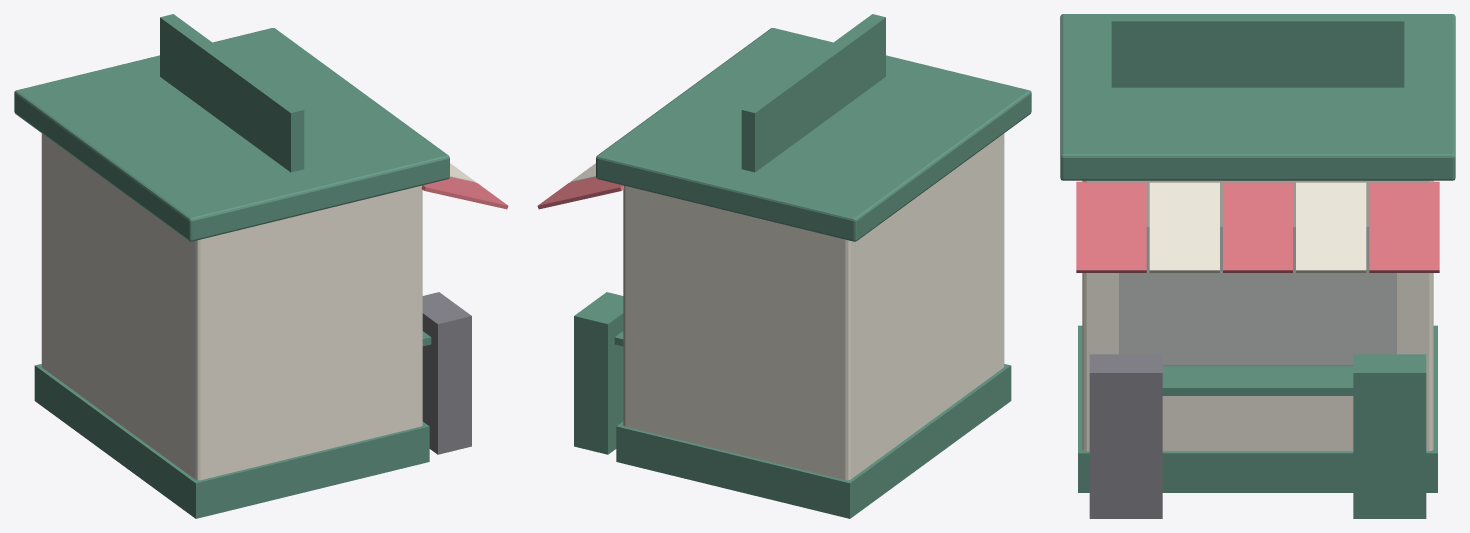
File: kiosk.glb
The picture shows the model from 3 angles, left to right: view 1: azimuth 30°, elevation 25°; view 2: azimuth 150°, elevation 25°; view 3: azimuth 270°, elevation 25°; orthographic projection. The views are drawn at different scales.
Parts seen in each view (by area): view 1: kiosk; view 2: kiosk; view 3: kiosk.
Boxes of the visible parts, <box> form: kiosk: <box>14,14,508,518</box>; kiosk: <box>537,14,1031,518</box>; kiosk: <box>1060,14,1455,518</box>.
Size of the model in its own units: 2.87 by 3.1 by 2.7.
